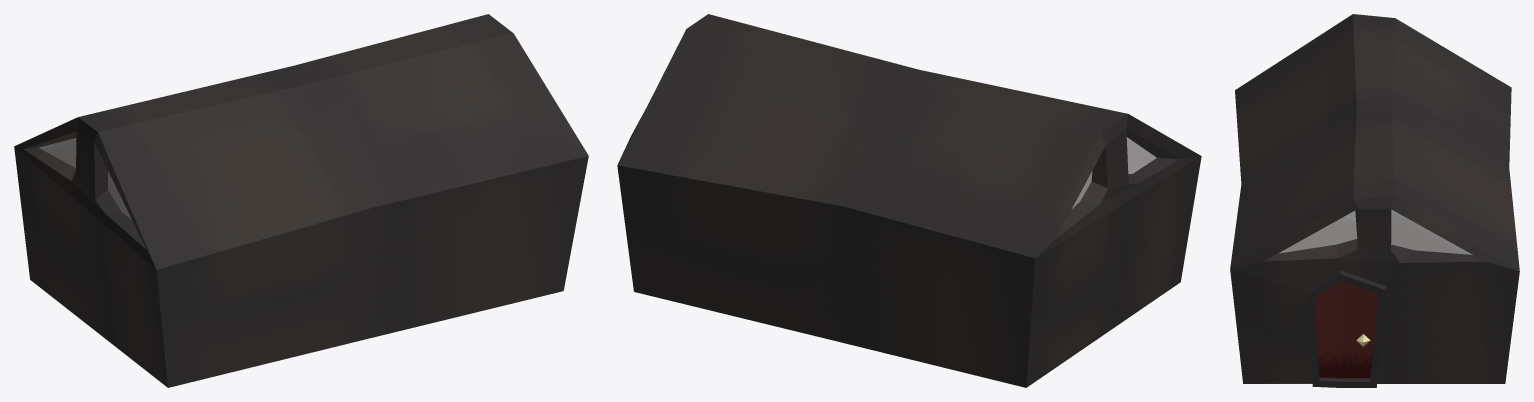
Rendered from woodstock-textured.fbx.
3 views of the same model, side by side, from view 1: azimuth 30°, elevation 25°; view 2: azimuth 150°, elevation 25°; view 3: azimuth 270°, elevation 25° (orthographic). The views are drawn at different scales.
Parts seen in each view (by area): view 1: woodstock; view 2: woodstock; view 3: woodstock.
Boxes of the visible parts, x1,y1,x2,y2 form: woodstock: (14,14,588,387); woodstock: (617,14,1201,387); woodstock: (1230,14,1519,387).
Bounding box in the file's own units: 621 × 292 × 398.
